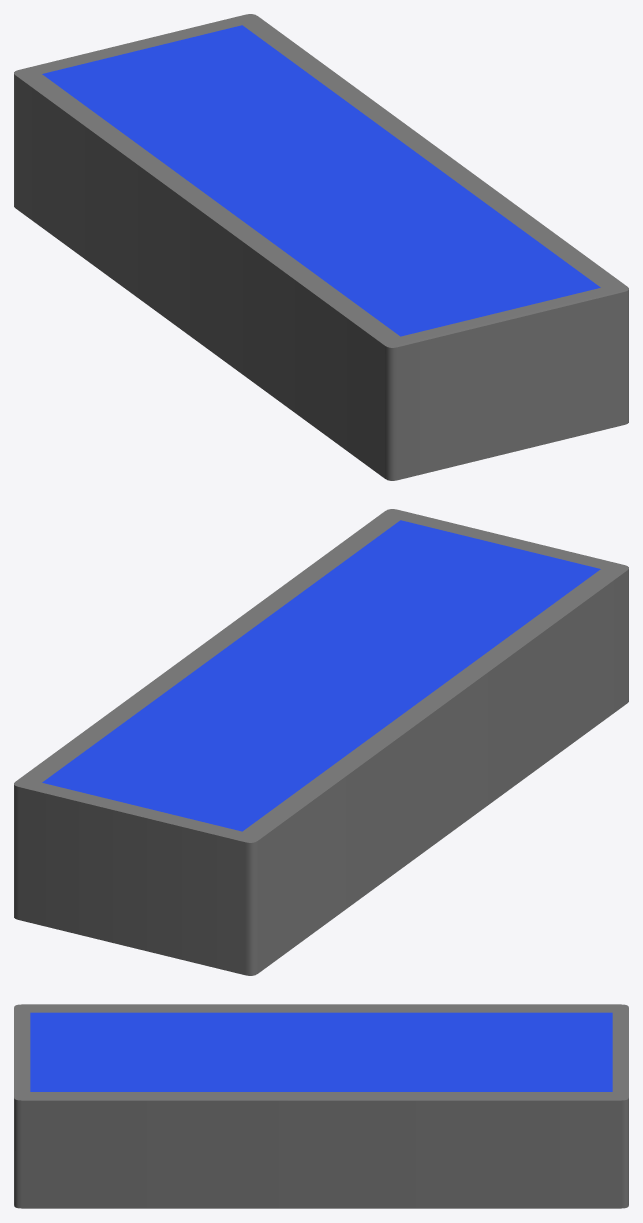
File: 만세산2.fbx
The picture shows the model from 3 angles, top to bottom: view 1: azimuth 30°, elevation 25°; view 2: azimuth 150°, elevation 25°; view 3: azimuth 270°, elevation 25°; orthographic projection. The views are drawn at different scales.
Parts seen in each view (by area): view 1: 1_low001; view 2: 1_low001; view 3: 1_low001.
Boxes of the visible parts, <box> form: 1_low001: <box>14,14,628,480</box>; 1_low001: <box>14,509,628,975</box>; 1_low001: <box>14,1004,628,1208</box>.
Bounding box in the file's own units: 604 × 317 × 1634.
